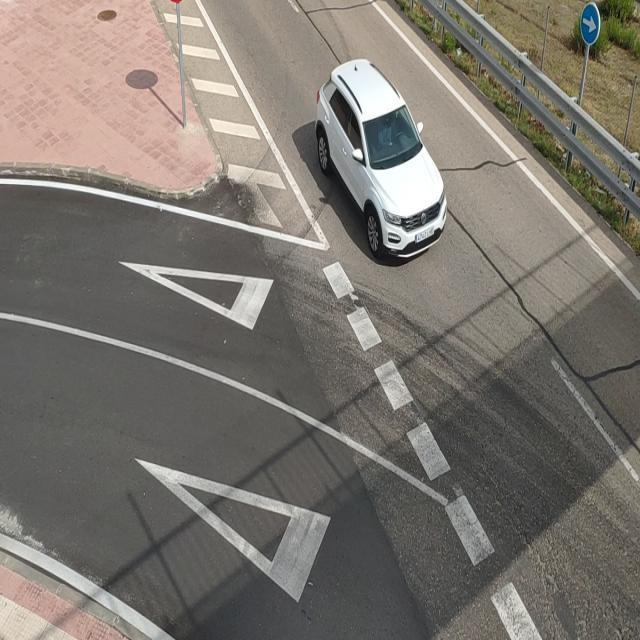Car: (319, 58, 460, 264)
